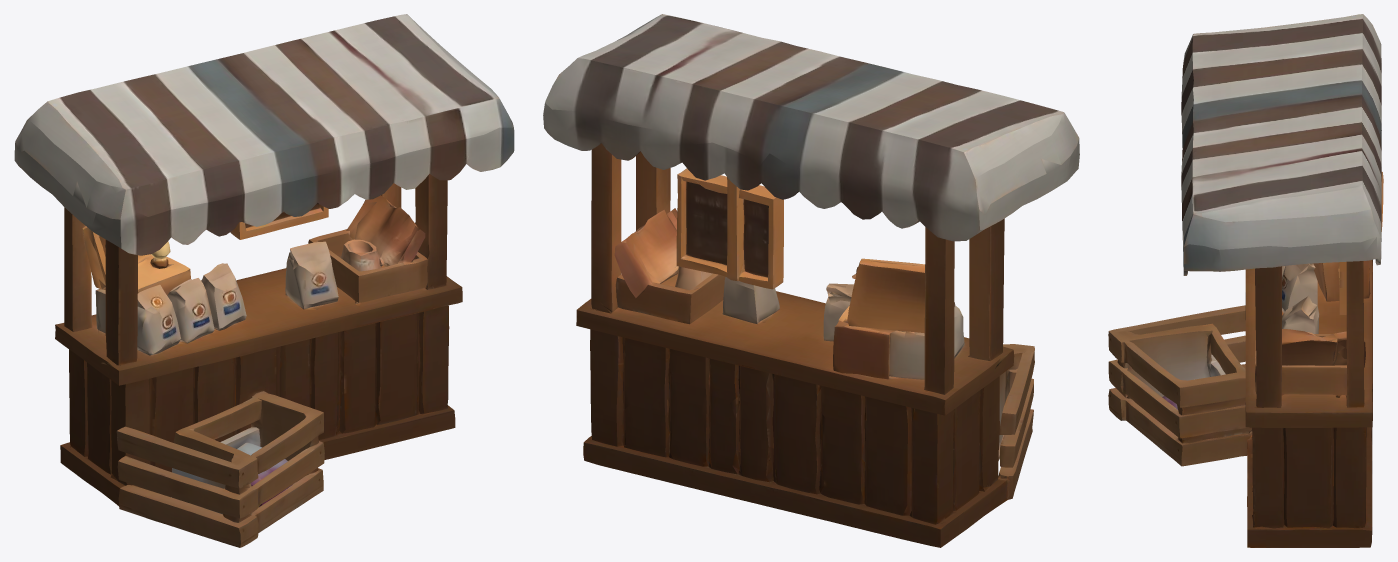
Rendered from stand-rodin-low.glb.
The picture shows the model from 3 angles, left to right: view 1: azimuth 30°, elevation 25°; view 2: azimuth 150°, elevation 25°; view 3: azimuth 270°, elevation 25°; orthographic projection. The views are drawn at different scales.
Parts seen in each view (by area): view 1: Mesh; view 2: Mesh; view 3: Mesh.
Part boxes in pixels (x1,y1,x2,y2): Mesh: (14, 14, 514, 547); Mesh: (543, 14, 1079, 547); Mesh: (1108, 14, 1383, 547).
Bounding box in the file's own units: 1.85 × 1.6 × 1.08.
Materials: 1 (1 with a texture image).
